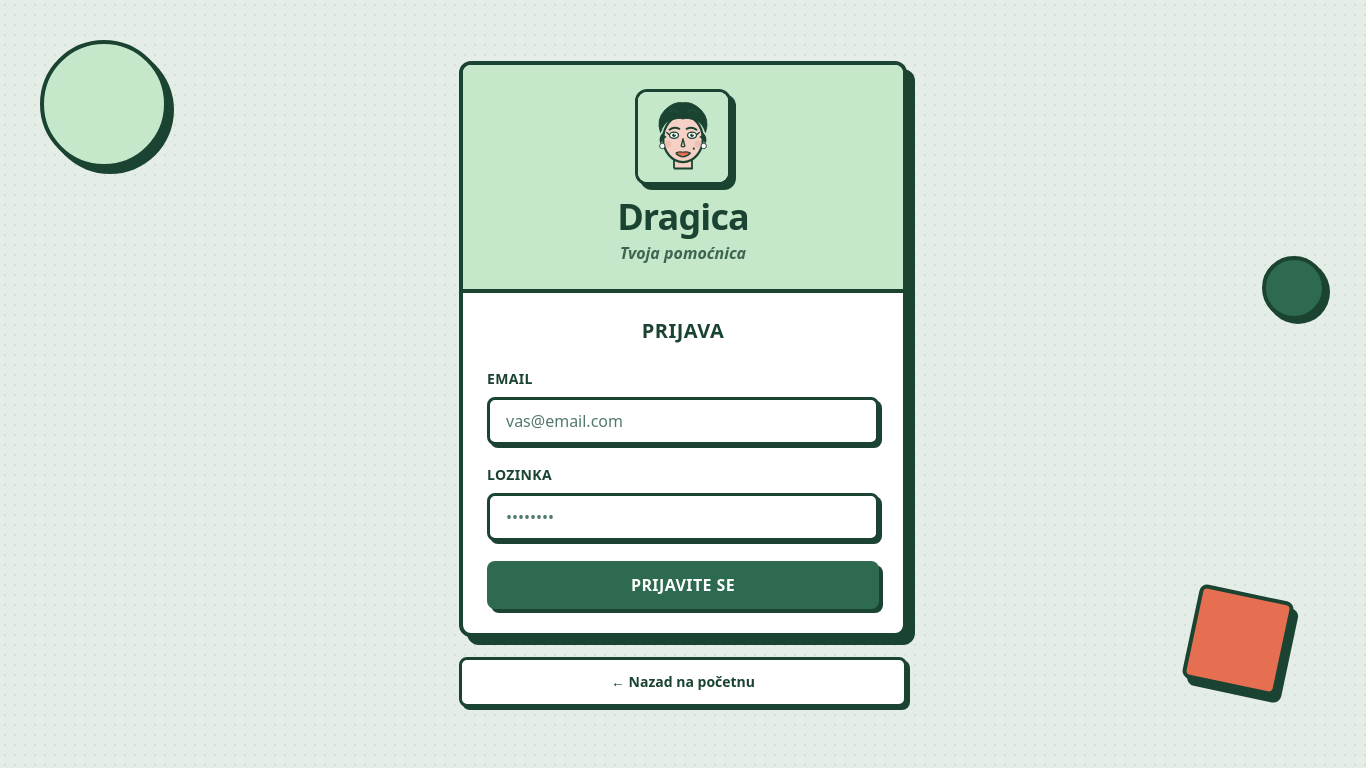
Test: Login Page › should disable form during submission
Type "test@example.com" into the field labelled "Email" at (683, 421), box [487,397,879,445]
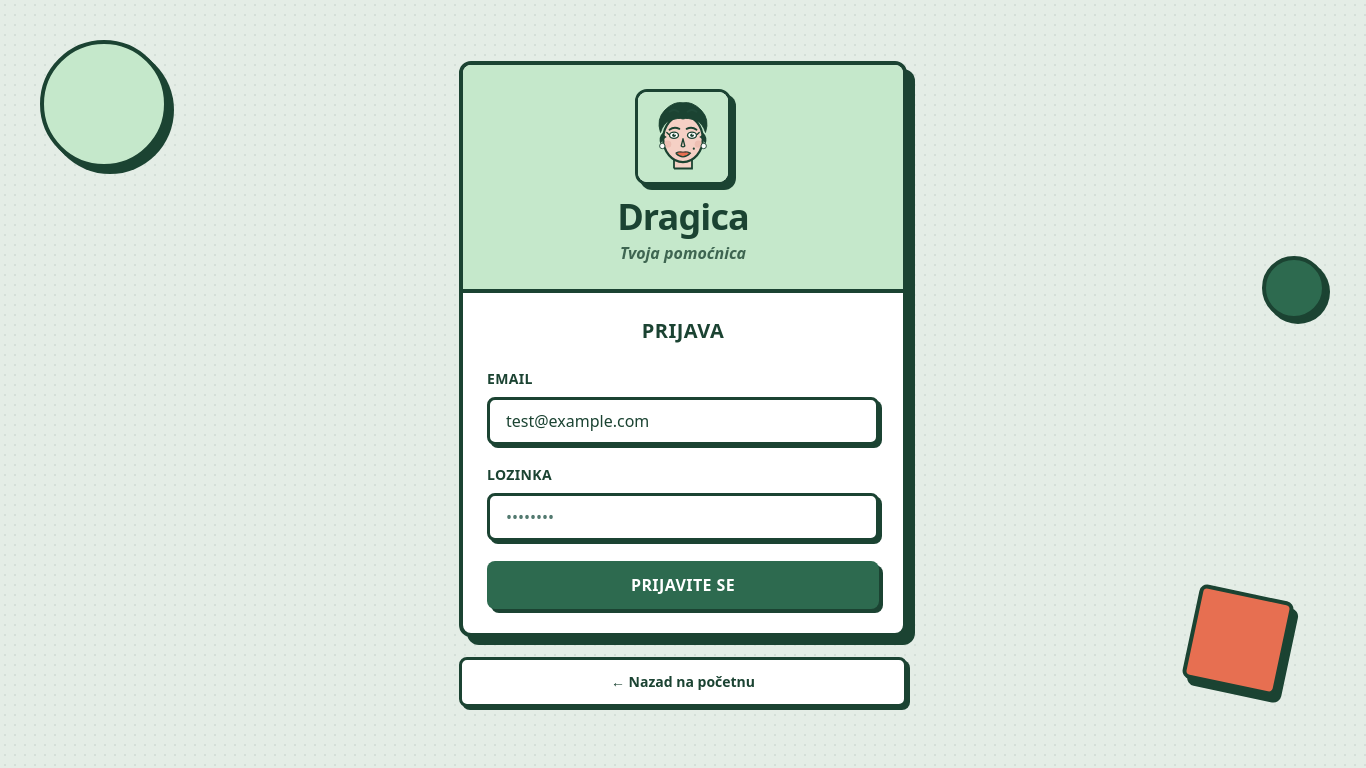
Type "password123" into the password field labelled "Lozinka" at (683, 517), box [487,493,879,541]
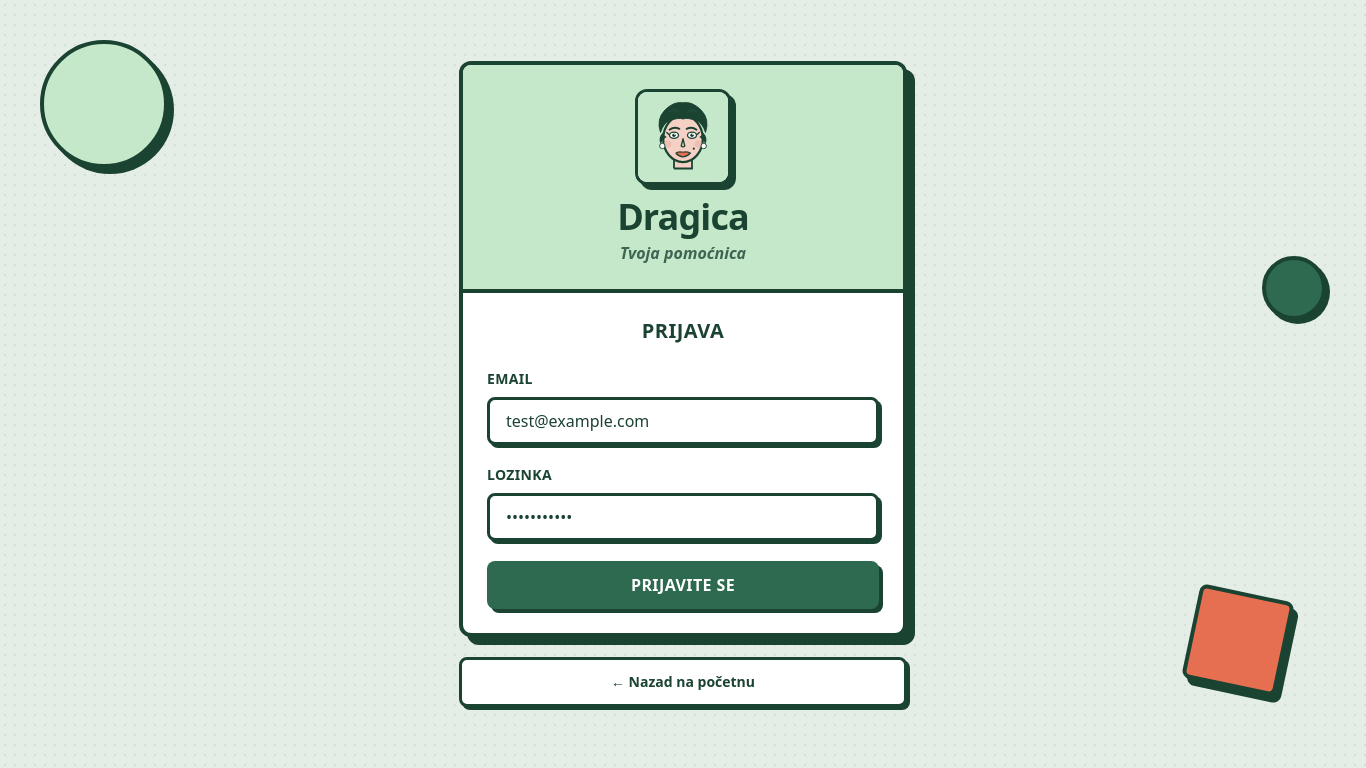
Click the button "Prijavite se" at (683, 585), box [487,561,879,609]
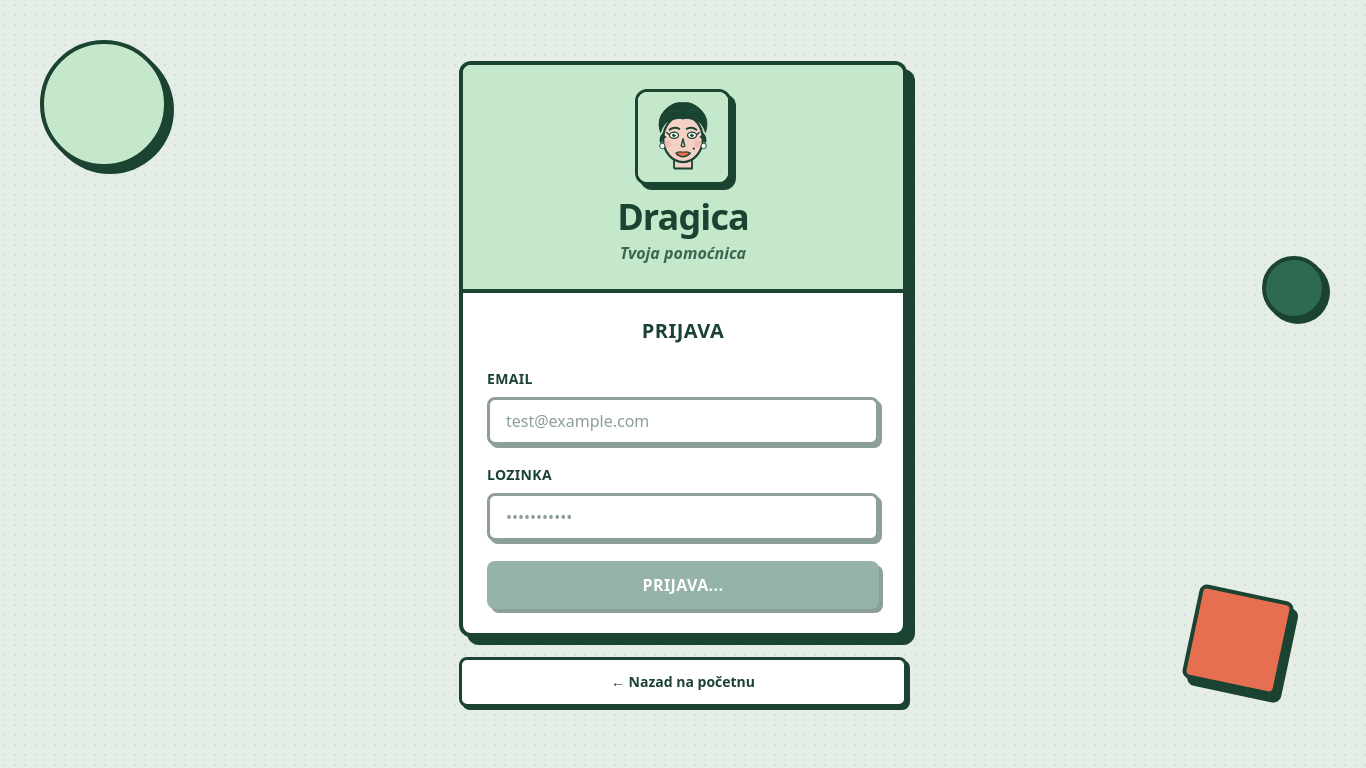
Now the field labelled "Email" is disabled, box [487,397,879,445]
Now the password field labelled "Lozinka" is disabled, box [487,493,879,541]
Now the button named "prijavite se" is disabled, box [487,561,879,609]
